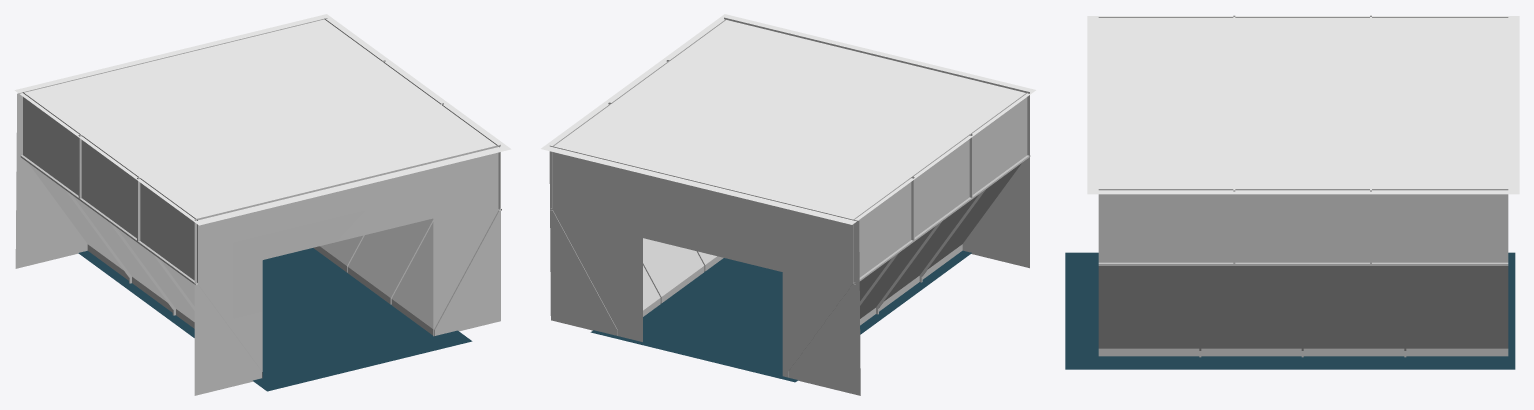
Rendered from SM_H_Building_Tide_PrisonMainInter_07_ATLAS.fbx.
3 renders of one model, left to right at view 1: azimuth 30°, elevation 25°; view 2: azimuth 150°, elevation 25°; view 3: azimuth 270°, elevation 25°, orthographic. The views are drawn at different scales.
Parts seen in each view (by area): view 1: SM_H_Building_Tide_PrisonMainInter_07_ATLAS; view 2: SM_H_Building_Tide_PrisonMainInter_07_ATLAS; view 3: SM_H_Building_Tide_PrisonMainInter_07_ATLAS.
Part boxes in pixels (x1=…): SM_H_Building_Tide_PrisonMainInter_07_ATLAS: x1=14, y1=14, x2=511, y2=395; SM_H_Building_Tide_PrisonMainInter_07_ATLAS: x1=541, y1=14, x2=1035, y2=395; SM_H_Building_Tide_PrisonMainInter_07_ATLAS: x1=1065, y1=15, x2=1519, y2=369.
Size of the model in its own units: 1191 by 1266 by 635.
